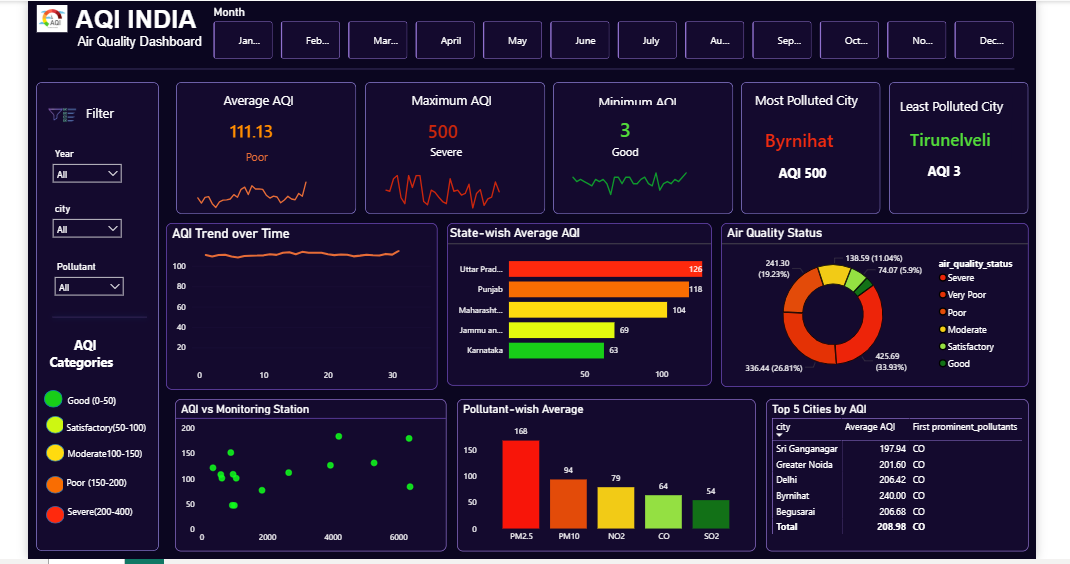

This screenshot's page, from the dashboard's own definition file:
{"tool":"powerbi","page":{"name":"Page 1","canvas":[1480,820],"ordinal":0},"visuals":[{"type":"textbox","box":[64.6,0,195.3,53.3],"z":0},{"type":"textbox","box":[67.8,43.6,226,32.3],"z":1000},{"type":"image","box":[3.2,6.5,64.6,40.4],"z":2000},{"type":"shape","box":[29.1,83.9,1420.5,32.3],"z":15000},{"type":"shape","box":[11.3,119.4,180.8,689.3],"z":16000},{"type":"shape","box":[217.9,119.4,264.7,193.7],"z":17000},{"type":"shape","box":[771.6,119.4,264.7,193.7],"z":18000},{"type":"shape","box":[1048.4,119.4,205,193.7],"z":19000},{"type":"shape","box":[1265.5,119.4,205,193.7],"z":20000},{"type":"textbox","box":[282.5,127.5,143.7,37.1],"z":21000},{"type":"textbox","box":[826.5,130.7,140.4,37.1],"z":22000},{"type":"textbox","box":[1057.3,127.5,174.3,37.1],"z":23000},{"type":"textbox","box":[1268.7,137.2,177.6,37.1],"z":24000},{"type":"cardVisual","fields":{"Data":["Measure.Average AQI"]},"box":[268,161.4,145.3,56.5],"z":25000},{"type":"cardVisual","fields":{"Data":["Measure.Minimum AQI"]},"box":[841,153.3,122.7,67.8],"z":26000},{"type":"cardVisual","fields":{"Data":["Measure.Most Polluted City"]},"box":[1054.1,164.6,188.9,75.9],"z":27000},{"type":"cardVisual","fields":{"Data":["Measure.Least Polluted City"]},"box":[1267.1,171.1,177.6,61.3],"z":28000},{"type":"lineChart","fields":{"Y":["Measure.Average AQI"],"Category":["aqi.date.Variation.Date Hierarchy.Day"]},"box":[229.2,245.1,241.9,65.2],"z":29000},{"type":"textbox","box":[306.7,213.1,58.1,30.7],"z":30000},{"type":"shape","box":[494.7,119.4,264.7,193.7],"z":31000},{"type":"textbox","box":[558.5,127.5,143.7,37.1],"z":32000},{"type":"cardVisual","fields":{"Data":["Measure.Maximum AQI"]},"box":[558.5,156.6,145.3,64.6],"z":33000},{"type":"textbox","box":[579.5,205,71,30.7],"z":34000},{"type":"lineChart","fields":{"Y":["Measure.Maximum AQI"],"Category":["aqi.date.Variation.Date Hierarchy.Day"]},"box":[505.2,242.1,251.8,67.8],"z":35000},{"type":"textbox","box":[841,205,74.3,30.7],"z":36000},{"type":"lineChart","fields":{"Y":["Measure.Minimum AQI"],"Category":["aqi.date.Variation.Date Hierarchy.Day"]},"box":[779.6,232.4,251.8,67.8],"z":37000},{"type":"textbox","box":[1097.6,235.7,103.3,46.8],"z":38000},{"type":"textbox","box":[1317.2,232.4,103.3,46.8],"z":39000},{"type":"lineChart","title":"AQI Trend over Time","fields":{"Y":["Measure.Average AQI"],"Category":["aqi.date.Variation.Date Hierarchy.Day"]},"box":[203.4,326.1,398.7,245.4],"z":40000},{"type":"clusteredBarChart","title":"State-wish Average AQI","fields":{"Y":["Measure.Average AQI"],"Category":["aqi.state"]},"box":[615.8,326.1,389,238.9],"z":41000},{"type":"donutChart","title":" Air Quality Status","fields":{"Category":["aqi.air_quality_status"],"Y":["Measure.Average AQI"]},"box":[1018.5,326.1,452,240.5],"z":42000},{"type":"scatterChart","title":"AQI vs Monitoring Station","fields":{"X":["Sum(aqi.number_of_monitoring_stations)"],"Y":["Measure.Average AQI"],"Category":["aqi.city"]},"box":[216.3,584.3,398.7,224.4],"z":43000},{"type":"columnChart","title":"Pollutant-wish Average","fields":{"Y":["Measure.Average AQI"],"Category":["aqi.prominent_pollutants"]},"box":[630.3,584.3,439.1,224.4],"z":44000},{"type":"pivotTable","title":"Top 5 Cities by AQI","fields":{"Rows":["aqi.city"],"Values":["Measure.Average AQI","Min(aqi.prominent_pollutants)"]},"box":[1084.7,584.3,385.8,224.4],"z":45000},{"type":"textbox","box":[67.8,146.9,75.9,46.8],"z":46000},{"type":"image","box":[19.4,122.7,64.6,90.4],"z":47000},{"type":"slicer","fields":{"Values":["aqi.Year"]},"box":[25.8,211.5,121.1,85.6],"z":48000},{"type":"slicer","fields":{"Values":["aqi.city"]},"box":[25.8,292.2,121.1,85.6],"z":49000},{"type":"slicer","fields":{"Values":["aqi.prominent_pollutants"]},"box":[29.1,377.7,121.1,85.6],"z":50000},{"type":"shape","box":[27.4,445.5,155,38.7],"z":51000},{"type":"textbox","box":[53.3,571.4,111.4,37.1],"z":52000},{"type":"textbox","box":[25.8,487.5,132.4,64.6],"z":53000},{"type":"shape","box":[24.2,571.4,27.4,25.8],"z":54000},{"type":"shape","box":[25.8,610.2,27.4,25.8],"z":55000},{"type":"shape","box":[25.8,650.5,27.4,25.8],"z":56000},{"type":"shape","box":[25.8,697.3,27.4,25.8],"z":57000},{"type":"shape","box":[25.8,742.5,27.4,25.8],"z":58000},{"type":"textbox","box":[51.7,613.4,134,43.6],"z":59000},{"type":"textbox","box":[53.3,650.5,132.4,37.1],"z":60000},{"type":"textbox","box":[51.7,690.9,106.5,37.1],"z":61000},{"type":"textbox","box":[53.3,736.1,106.5,37.1],"z":62000},{"type":"advancedSlicerVisual","fields":{"Values":["aqi.Month"]},"box":[267.4,6.4,1188.8,84.3],"z":62001}]}

Visuals, with their boxes on the page's 1480x820 design canvas (x1, y1, x2, y2). These are canvas units, not pixel positions in the 1070x564 screenshot, which may show the page scaled, cropped or inside an application window:
textbox: (65,0,260,53)
textbox: (68,44,294,76)
image: (3,6,68,47)
shape: (29,84,1450,116)
shape: (11,119,192,809)
shape: (218,119,483,313)
shape: (772,119,1036,313)
shape: (1048,119,1253,313)
shape: (1266,119,1470,313)
textbox: (282,128,426,165)
textbox: (826,131,967,168)
textbox: (1057,128,1232,165)
textbox: (1269,137,1446,174)
cardVisual - Measure.Average AQI: (268,161,413,218)
cardVisual - Measure.Minimum AQI: (841,153,964,221)
cardVisual - Measure.Most Polluted City: (1054,165,1243,240)
cardVisual - Measure.Least Polluted City: (1267,171,1445,232)
lineChart - Measure.Average AQI x aqi.date.Variation.Date Hierarchy.Day: (229,245,471,310)
textbox: (307,213,365,244)
shape: (495,119,759,313)
textbox: (558,128,702,165)
cardVisual - Measure.Maximum AQI: (558,157,704,221)
textbox: (580,205,650,236)
lineChart - Measure.Maximum AQI x aqi.date.Variation.Date Hierarchy.Day: (505,242,757,310)
textbox: (841,205,915,236)
lineChart - Measure.Minimum AQI x aqi.date.Variation.Date Hierarchy.Day: (780,232,1031,300)
textbox: (1098,236,1201,282)
textbox: (1317,232,1420,279)
"AQI Trend over Time" lineChart: (203,326,602,572)
"State-wish Average AQI" clusteredBarChart: (616,326,1005,565)
" Air Quality Status" donutChart: (1018,326,1470,567)
"AQI vs Monitoring Station" scatterChart: (216,584,615,809)
"Pollutant-wish Average" columnChart: (630,584,1069,809)
"Top 5 Cities by AQI" pivotTable: (1085,584,1470,809)
textbox: (68,147,144,194)
image: (19,123,84,213)
slicer - aqi.Year: (26,212,147,297)
slicer - aqi.city: (26,292,147,378)
slicer - aqi.prominent_pollutants: (29,378,150,463)
shape: (27,446,182,484)
textbox: (53,571,165,608)
textbox: (26,488,158,552)
shape: (24,571,52,597)
shape: (26,610,53,636)
shape: (26,650,53,676)
shape: (26,697,53,723)
shape: (26,742,53,768)
textbox: (52,613,186,657)
textbox: (53,650,186,688)
textbox: (52,691,158,728)
textbox: (53,736,160,773)
advancedSlicerVisual - aqi.Month: (267,6,1456,91)
